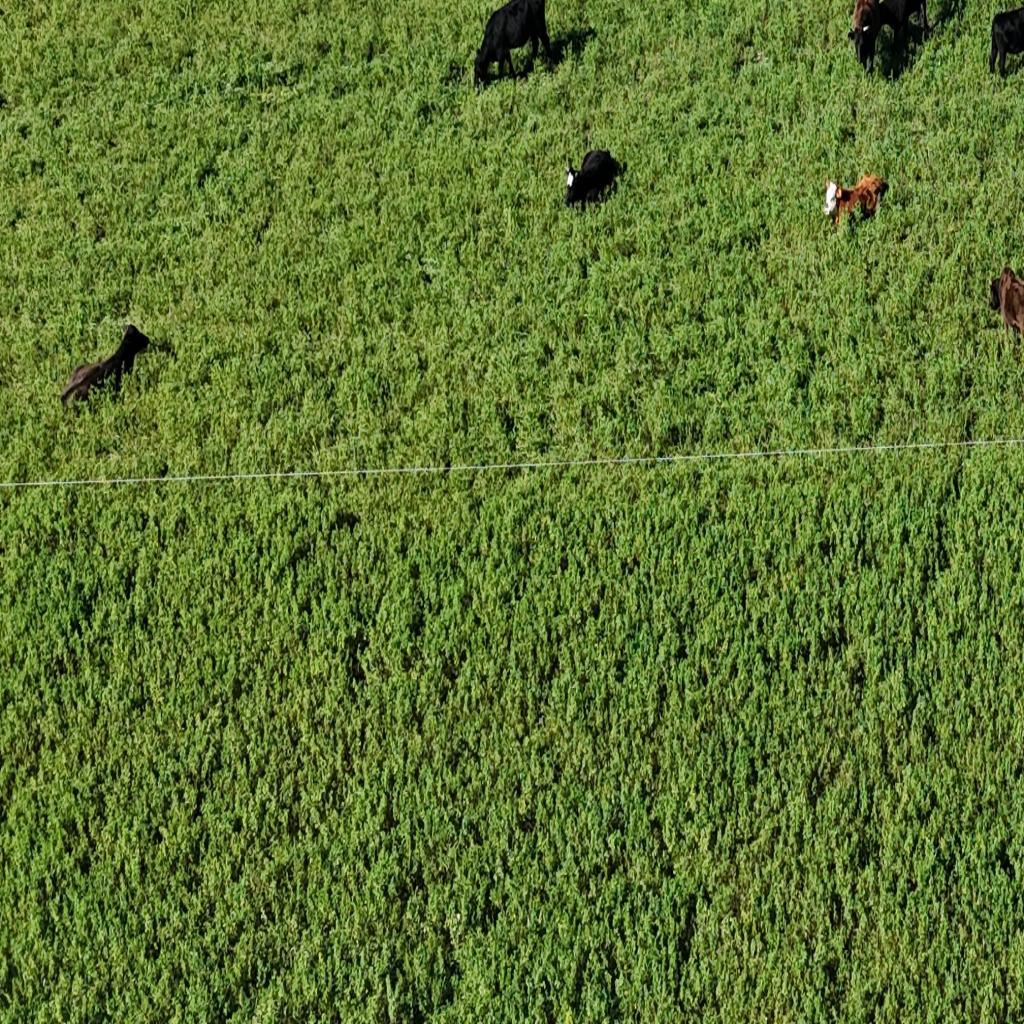cow: (43, 312, 165, 418), (473, 0, 555, 92), (847, 0, 929, 77), (563, 148, 623, 209), (824, 173, 888, 230), (988, 266, 1024, 350), (987, 4, 1024, 80)
